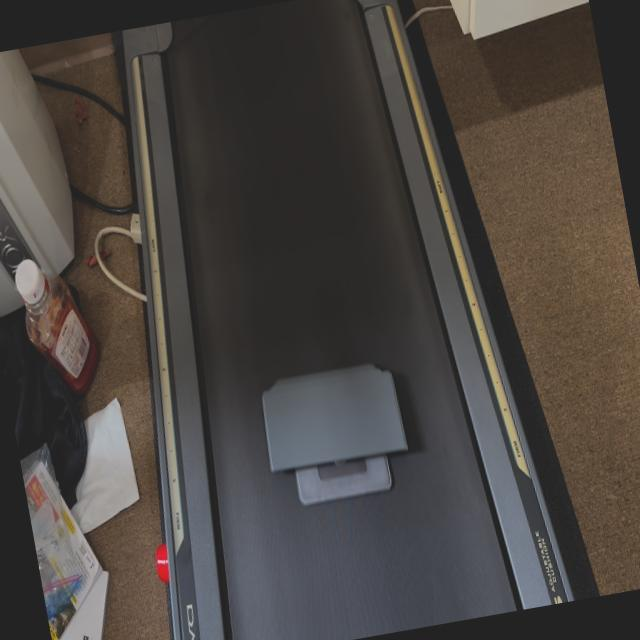Trash: (250, 346, 419, 518)
